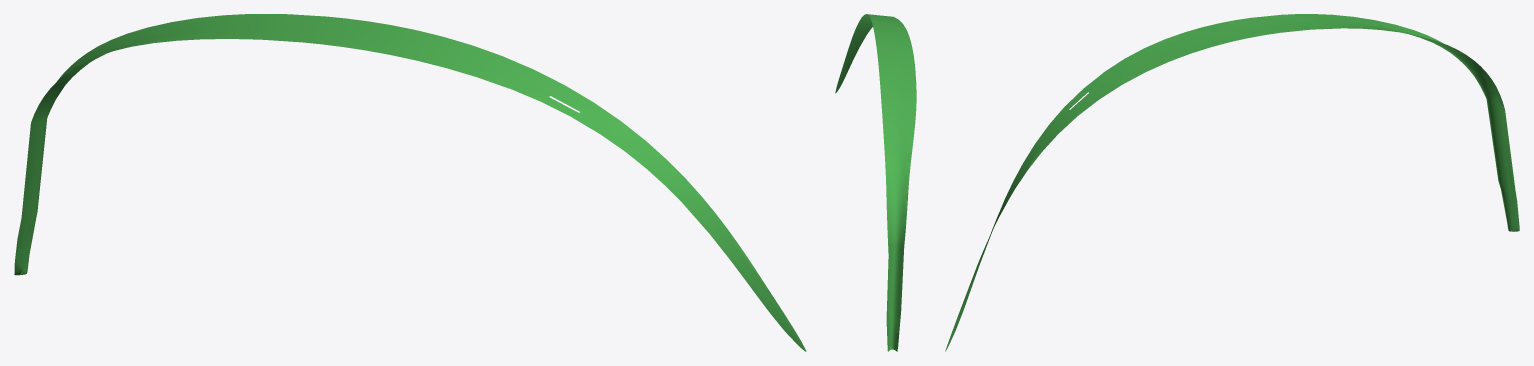
The model's file is daun selari.glb.
3 renders of one model, left to right at view 1: azimuth 30°, elevation 25°; view 2: azimuth 150°, elevation 25°; view 3: azimuth 270°, elevation 25°, orthographic. The views are drawn at different scales.
Parts seen in each view (by area): view 1: Leaves; view 2: Leaves; view 3: Leaves.
Boxes of the visible parts, x1,y1,x2,y2 form: Leaves: (14,14,806,351); Leaves: (835,14,916,351); Leaves: (945,14,1519,351).
Bounding box in the file's own units: 0.0519 × 0.0361 × 0.0702.
